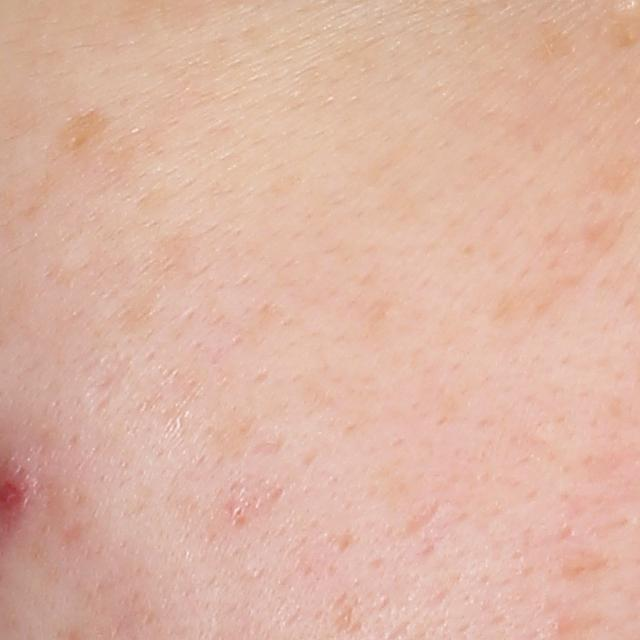atrophic_scar: (399, 496, 444, 538)
melasma: (490, 268, 578, 348), (39, 102, 112, 182), (529, 12, 585, 64)
